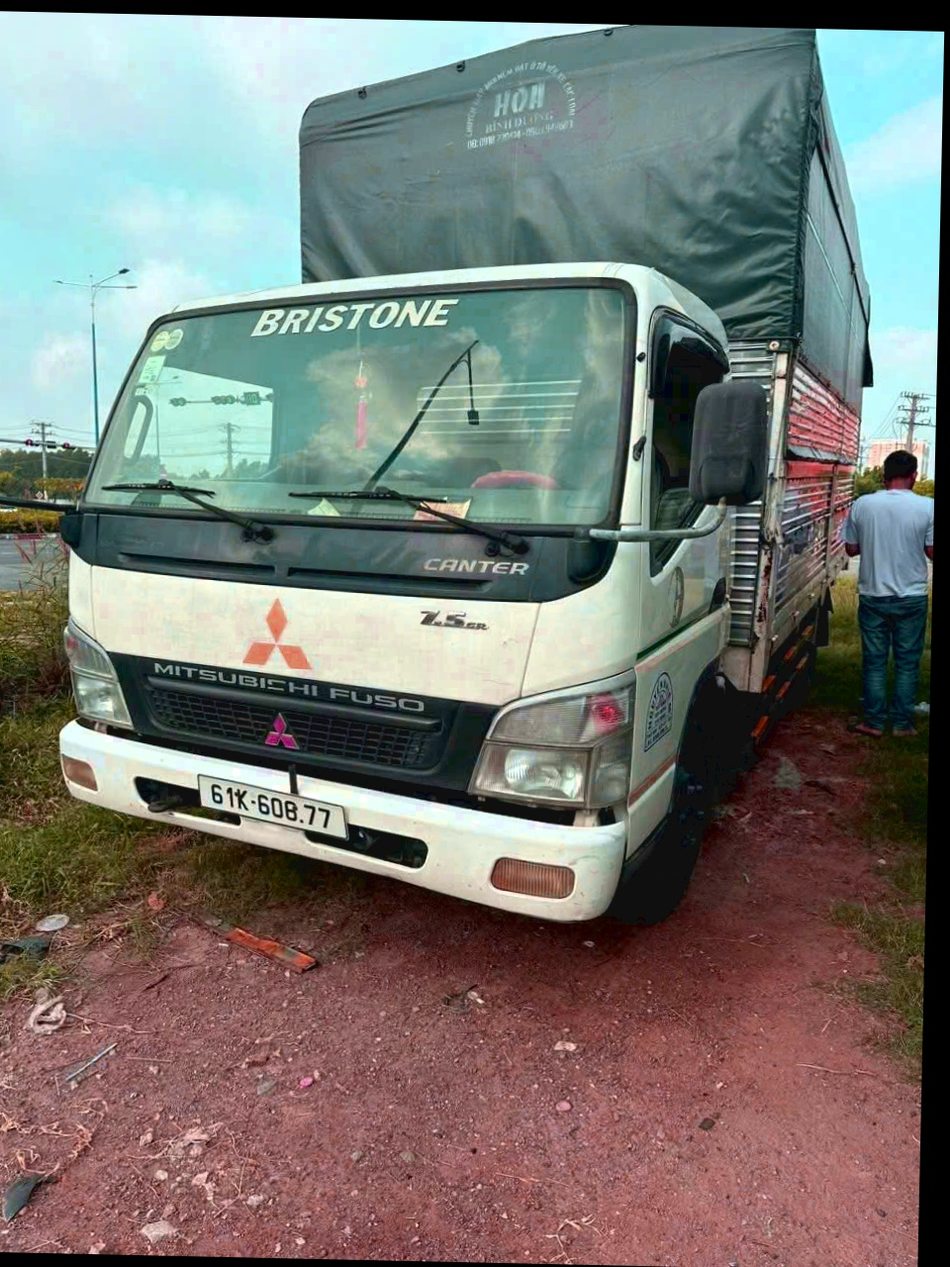Bien-so: (194, 770, 360, 847)
